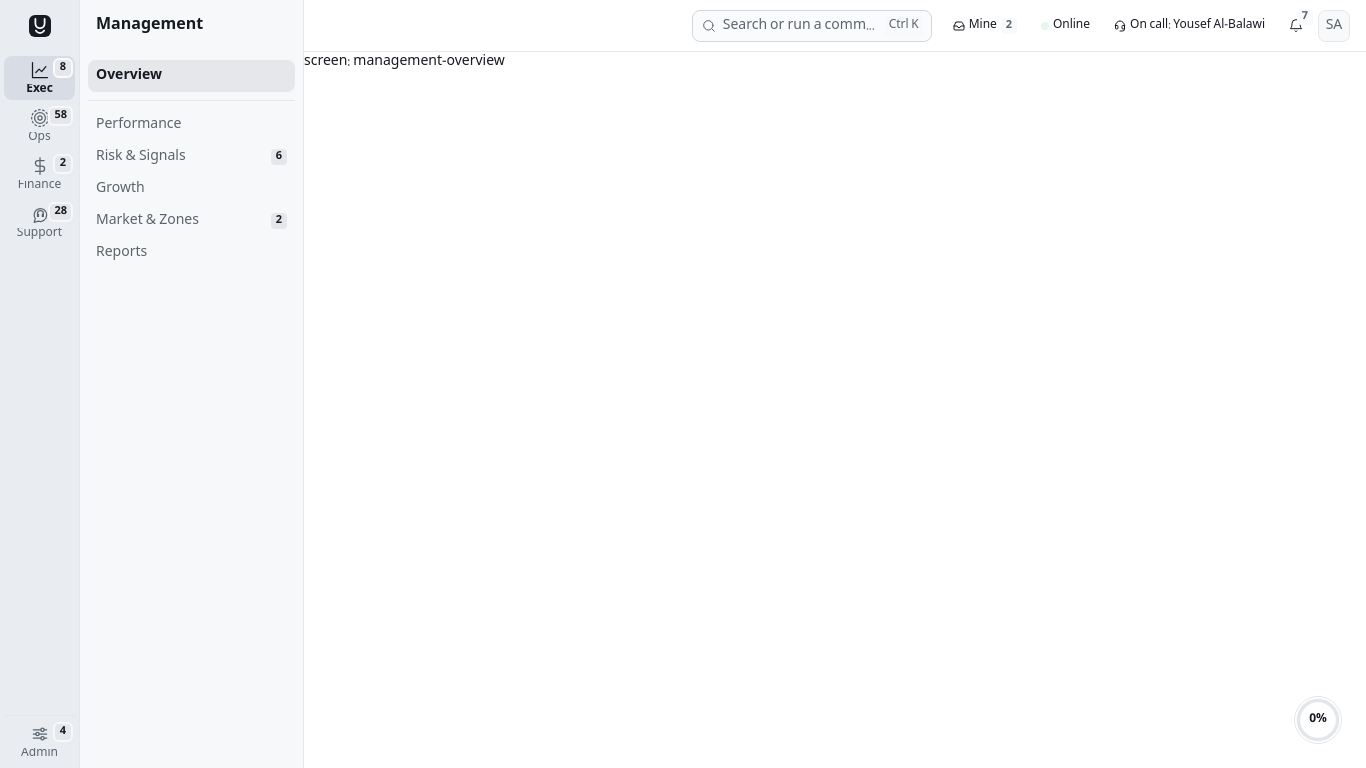
Test case: Beacon — "a ring with the percentage opens a small panel of the steps" › hides for the session, and never shows for a dismissed track
This screenshot has width=1366, height=768.
Click the button "0%": {"x": 1318, "y": 720} [1294, 696, 1342, 744]
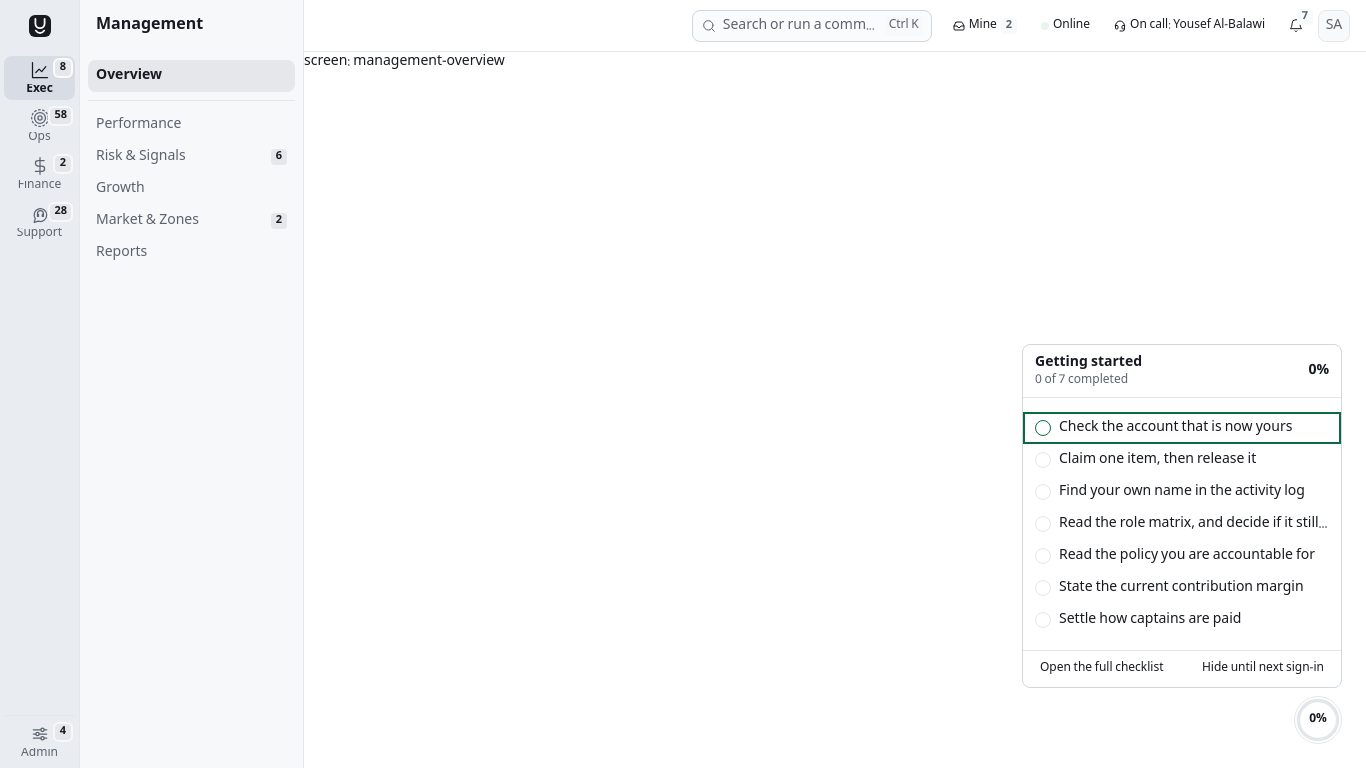
Click the button "Hide until next sign-in": {"x": 1263, "y": 669} [1193, 657, 1333, 681]
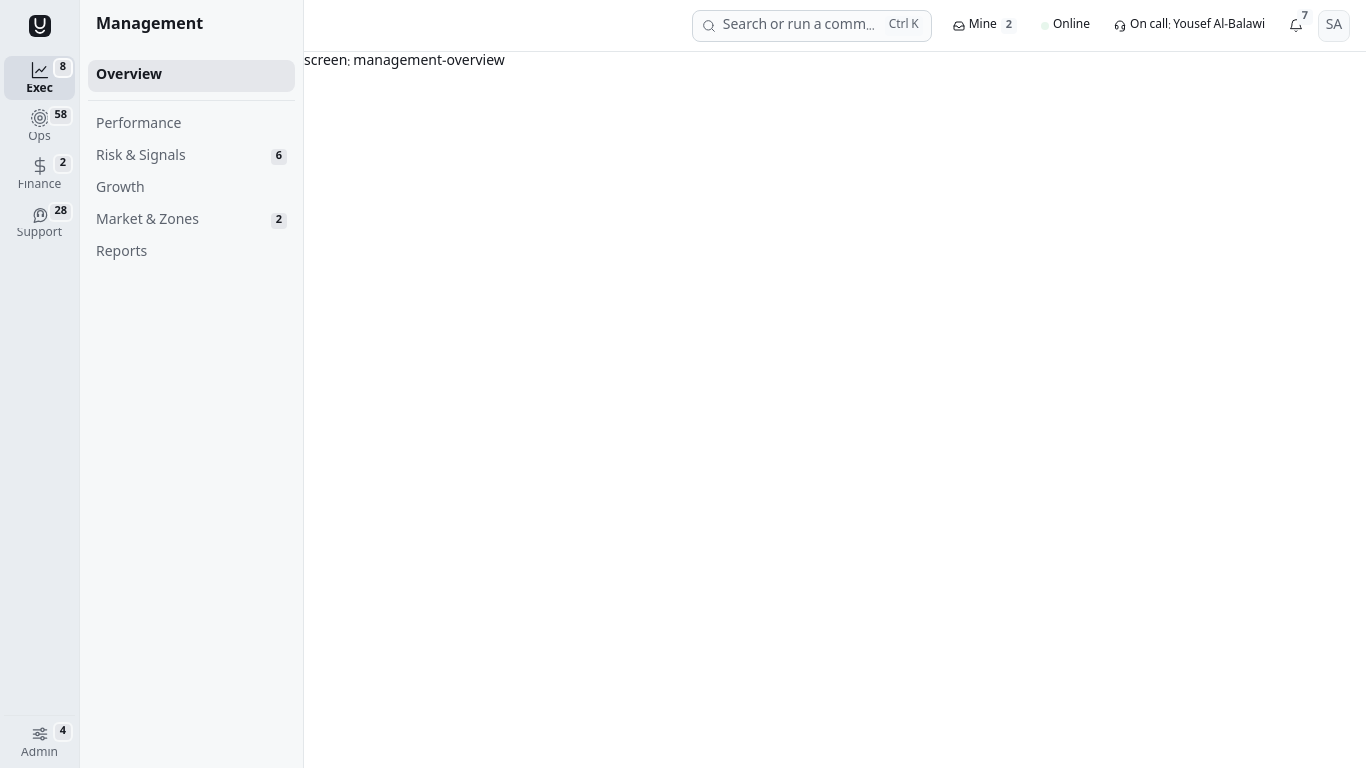
Result: the element with test id "onboarding-beacon" is gone
